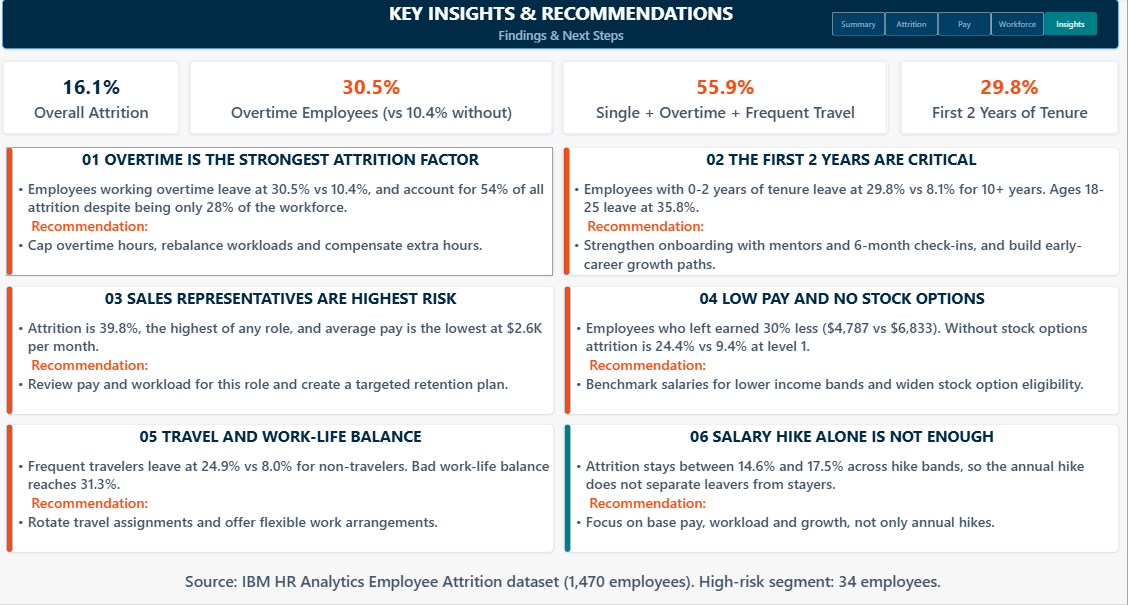

Layout of this report page (visuals, bound fields, positions):
{"tool":"powerbi","page":{"name":"Insights","canvas":[1920,1030],"ordinal":4},"visuals":[{"type":"textbox","title":"KEY INSIGHTS & RECOMMENDATIONS","box":[10.1,4,1895.7,84.9],"z":0},{"type":"cardVisual","title":"Overtime Employees (vs 10.4% without)","fields":{"Data":["_Measures.OT Attrition Rate"]},"box":[327.4,107.1,618.4,127.3],"z":1000},{"type":"cardVisual","title":"First 2 Years of Tenure","fields":{"Data":["_Measures.Early Tenure Attrition Rate"]},"box":[1534,107.1,371.9,127.3],"z":2000},{"type":"cardVisual","title":"Single + Overtime + Frequent Travel","fields":{"Data":["_Measures.High Risk Attrition Rate"]},"box":[960,107.1,553.8,127.3],"z":3000},{"type":"cardVisual","title":"Overall Attrition","fields":{"Data":["_Measures.Attrition Rate"]},"box":[10.1,107.1,301.1,127.3],"z":4000},{"type":"textbox","title":"01 OVERTIME IS THE STRONGEST ATTRITION FACTOR","box":[16.2,254.7,929.7,218.3],"z":5000},{"type":"shape","box":[16.2,254.7,12.1,218.3],"z":6000},{"type":"textbox","title":"02 THE FIRST 2 YEARS ARE CRITICAL","box":[960,254.7,945.9,218.3],"z":7000},{"type":"shape","box":[962,254.7,12.1,218.3],"z":8000},{"type":"textbox","title":"03 SALES REPRESENTATIVES ARE HIGHEST RISK","box":[16.2,491.1,929.7,218.3],"z":9000},{"type":"textbox","title":"04 LOW PAY AND NO STOCK OPTIONS","box":[964,491.1,941.8,218.3],"z":10000},{"type":"shape","box":[16.2,491.1,12.1,218.3],"z":11000},{"type":"textbox","title":"05 TRAVEL AND WORK-LIFE BALANCE","box":[16.2,725.6,929.7,218.3],"z":12000},{"type":"textbox","title":"06 SALARY HIKE ALONE IS NOT ENOUGH","box":[964,725.6,941.8,218.3],"z":13000},{"type":"shape","box":[16.2,725.6,12.1,218.3],"z":14000},{"type":"shape","box":[964,491.1,12.1,218.3],"z":15000},{"type":"shape","box":[964,725.6,12.1,218.3],"z":16000},{"type":"textbox","box":[18.2,972.1,1887.7,38.4],"z":17000},{"type":"pageNavigator","box":[1418.8,26.3,452.7,40.4],"z":18000}]}

Visuals, with their boxes in screenshot pixels (x1, y1, x2, y2), scaled from the page's 1920x1030 canvas onto the 1128x605 screenshot:
"KEY INSIGHTS & RECOMMENDATIONS" textbox: l=6, t=2, r=1120, b=52
"Overtime Employees (vs 10.4% without)" cardVisual: l=192, t=63, r=556, b=138
"First 2 Years of Tenure" cardVisual: l=901, t=63, r=1120, b=138
"Single + Overtime + Frequent Travel" cardVisual: l=564, t=63, r=889, b=138
"Overall Attrition" cardVisual: l=6, t=63, r=183, b=138
"01 OVERTIME IS THE STRONGEST ATTRITION FACTOR" textbox: l=10, t=150, r=556, b=278
shape: l=10, t=150, r=17, b=278
"02 THE FIRST 2 YEARS ARE CRITICAL" textbox: l=564, t=150, r=1120, b=278
shape: l=565, t=150, r=572, b=278
"03 SALES REPRESENTATIVES ARE HIGHEST RISK" textbox: l=10, t=288, r=556, b=417
"04 LOW PAY AND NO STOCK OPTIONS" textbox: l=566, t=288, r=1120, b=417
shape: l=10, t=288, r=17, b=417
"05 TRAVEL AND WORK-LIFE BALANCE" textbox: l=10, t=426, r=556, b=554
"06 SALARY HIKE ALONE IS NOT ENOUGH" textbox: l=566, t=426, r=1120, b=554
shape: l=10, t=426, r=17, b=554
shape: l=566, t=288, r=573, b=417
shape: l=566, t=426, r=573, b=554
textbox: l=11, t=571, r=1120, b=594
pageNavigator: l=834, t=15, r=1100, b=39
